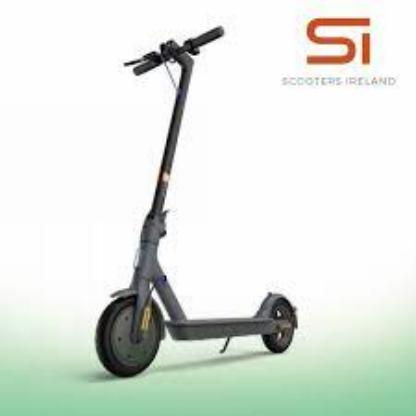bike: (94, 31, 299, 379)
